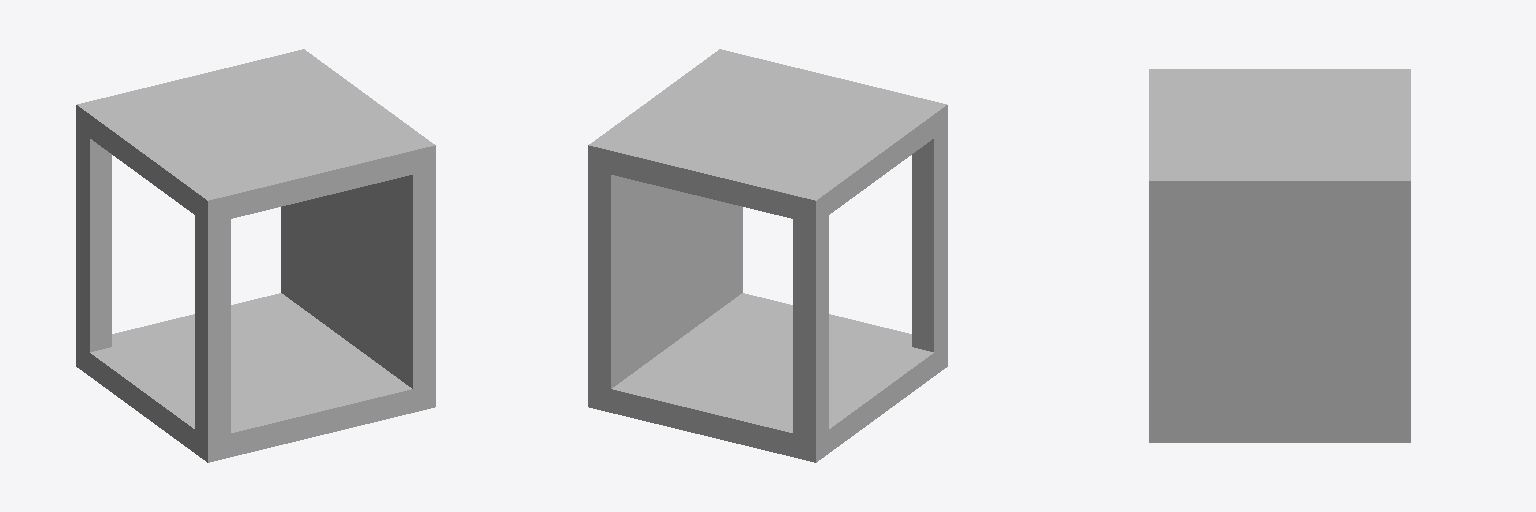
The model's file is wallSet_2.obj.
The picture shows the model from 3 angles: view 1: azimuth 30°, elevation 25°; view 2: azimuth 150°, elevation 25°; view 3: azimuth 270°, elevation 25°; orthographic projection.
Visible parts, largest first — view 1: wallSet_2_Cube.007; view 2: wallSet_2_Cube.007; view 3: wallSet_2_Cube.007.
Part boxes in pixels (left/top/right/bottom): wallSet_2_Cube.007: left=76, top=49, right=435, bottom=462; wallSet_2_Cube.007: left=588, top=49, right=947, bottom=462; wallSet_2_Cube.007: left=1149, top=69, right=1410, bottom=442.
Bounding box in the file's own units: 2 × 2.2 × 2.